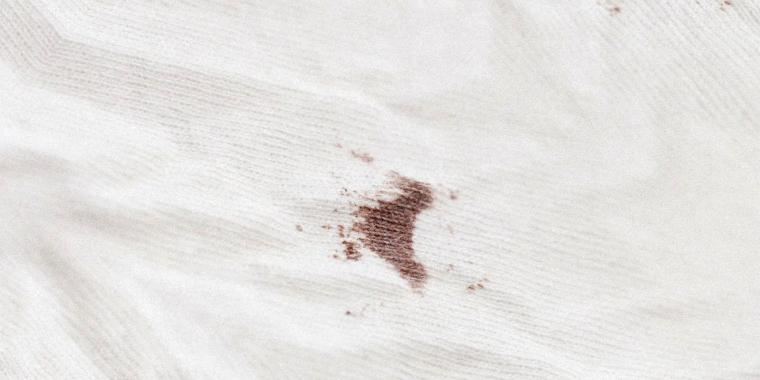stain: (348, 173, 436, 291)
